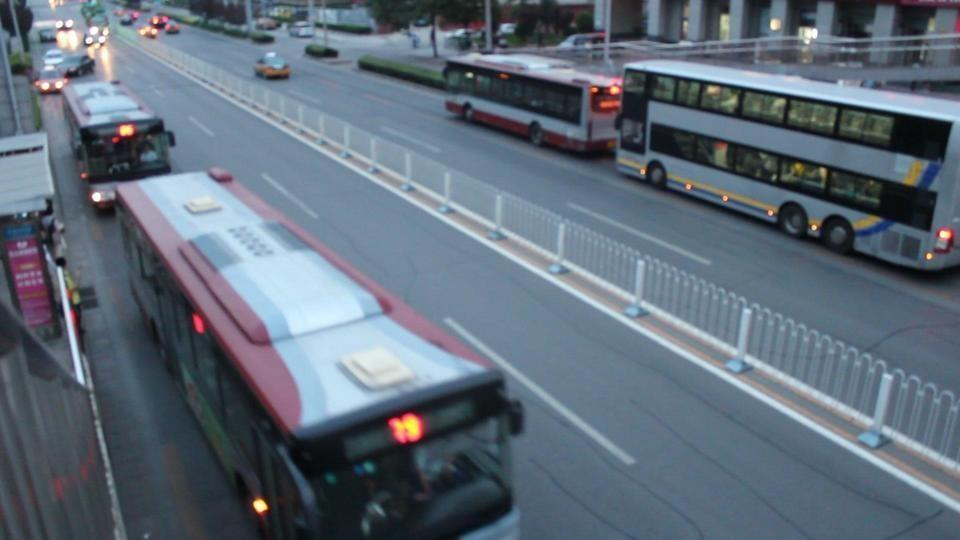car: (31, 50, 95, 95), (252, 52, 292, 80), (553, 33, 607, 53), (140, 14, 180, 35), (288, 22, 316, 38)
